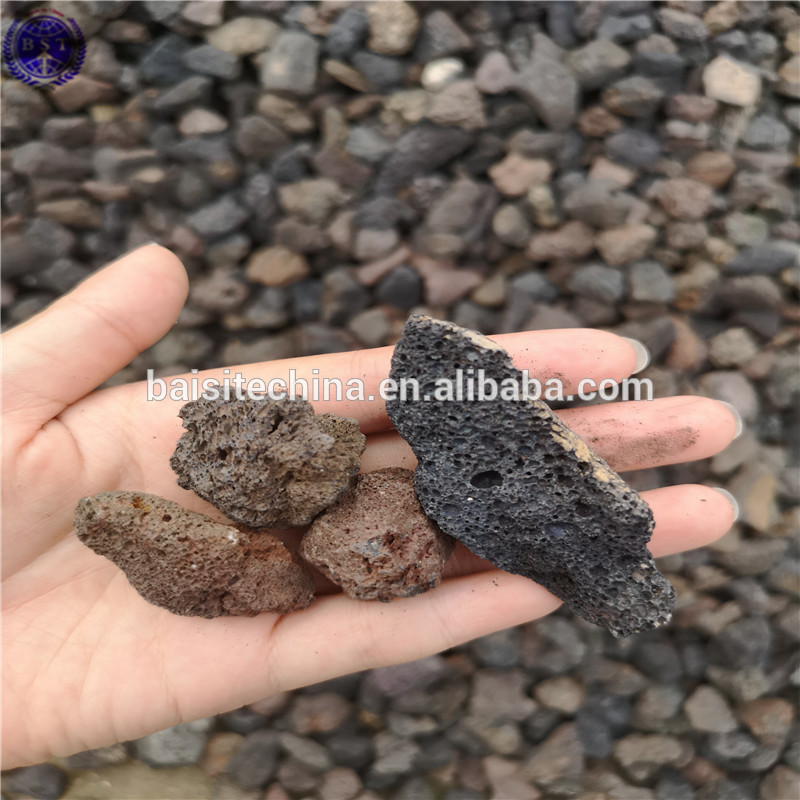volcanic_rock: (382, 307, 674, 638), (70, 472, 333, 648), (149, 372, 382, 531), (300, 464, 484, 601)
